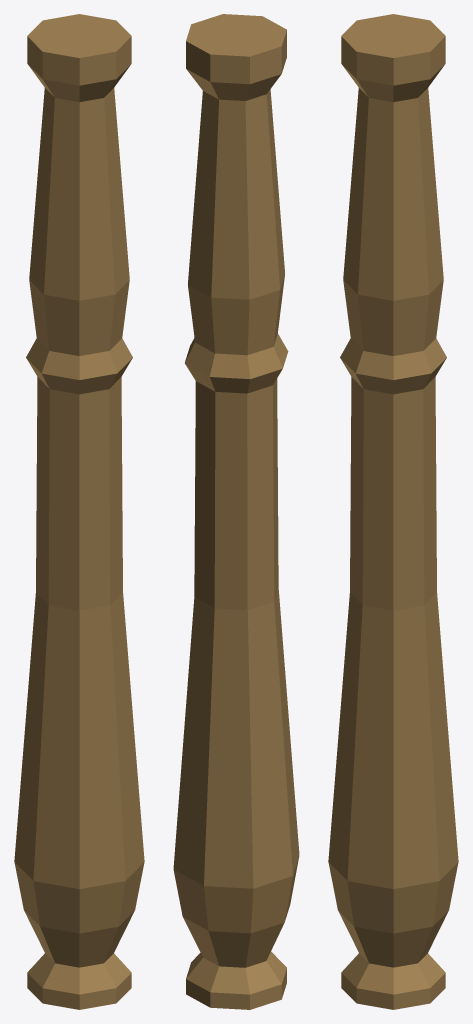
The model's file is CornerPillar.fbx.
3 views of the same model, side by side, from view 1: azimuth 90°, elevation 25°; view 2: azimuth 150°, elevation 25°; view 3: azimuth 270°, elevation 25° (orthographic).
Visible parts, largest first — view 1: CornerPillar; view 2: CornerPillar; view 3: CornerPillar.
Part boxes in pixels (x1,y1,x2,y2): CornerPillar: (14, 14, 144, 1009); CornerPillar: (173, 14, 299, 1009); CornerPillar: (328, 14, 458, 1009).
Size of the model in its own units: 37.21 by 300 by 37.21.
